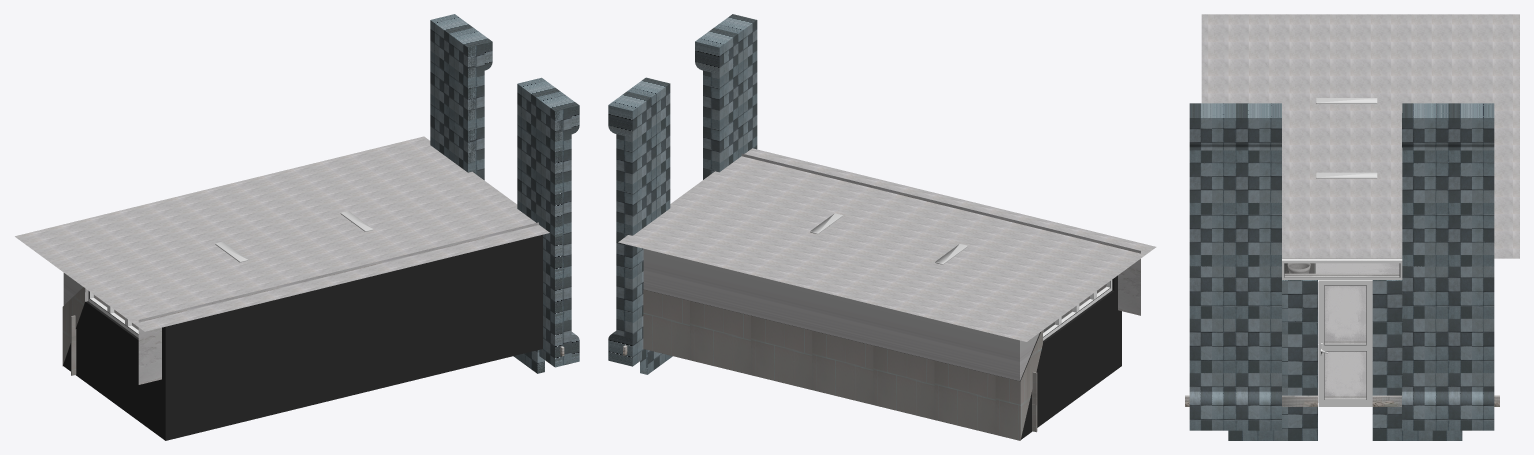
Rendered from baNIOPUBLICO.fbx.
3 renders of one model, left to right at view 1: azimuth 30°, elevation 25°; view 2: azimuth 150°, elevation 25°; view 3: azimuth 270°, elevation 25°, orthographic. The views are drawn at different scales.
Parts seen in each view (by area): view 1: Cube.384, Plane.157, Plane.070, Plane.154, Cube.429, Cube.428; view 2: Plane.157, Cube.384, Plane.154, Plane.070, Cube.429, Cube.428, Cube.383; view 3: Plane.157, Plane.070, Plane.154, Cube.283, Plane.155, Plane.041, Cube.385, Cube.382, lapara_pasillo.008, Cube.302, Cube.373.
Boxes of the visible parts, left/top/right/bottom form: Cube.384: left=62, top=234, right=542, bottom=440; Plane.157: left=15, top=136, right=549, bottom=331; Plane.070: left=517, top=77, right=579, bottom=367; Plane.154: left=430, top=14, right=492, bottom=180; Cube.429: left=138, top=274, right=327, bottom=384; Cube.428: left=327, top=222, right=538, bottom=276; Plane.157: left=618, top=148, right=1156, bottom=341; Cube.384: left=643, top=249, right=1121, bottom=440; Plane.154: left=608, top=77, right=670, bottom=366; Plane.070: left=695, top=14, right=757, bottom=179; Cube.429: left=952, top=205, right=1140, bottom=315; Cube.428: left=741, top=153, right=952, bottom=207; Cube.383: left=1043, top=280, right=1112, bottom=340; Plane.157: left=1201, top=14, right=1519, bottom=258; Plane.070: left=1189, top=103, right=1281, bottom=430; Plane.154: left=1402, top=103, right=1494, bottom=430; Cube.283: left=1318, top=280, right=1372, bottom=406; Plane.155: left=1228, top=280, right=1317, bottom=440; Plane.041: left=1372, top=280, right=1462, bottom=440; Cube.385: left=1282, top=258, right=1401, bottom=276; Cube.382: left=1282, top=259, right=1402, bottom=279; lapara_pasillo.008: left=1316, top=98, right=1377, bottom=178; Cube.302: left=1185, top=395, right=1317, bottom=406; Cube.373: left=1372, top=395, right=1499, bottom=406.
Bounding box in the file's own units: 3161 × 1923 × 1746.
